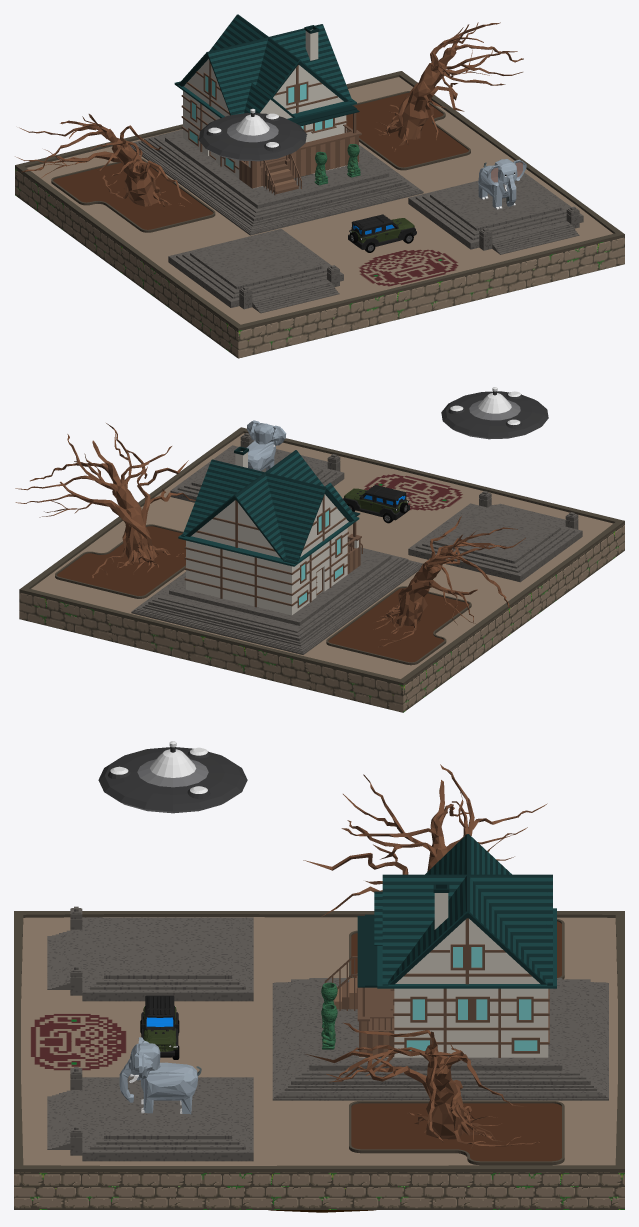
3 renders of one model, top to bottom at view 1: azimuth 30°, elevation 25°; view 2: azimuth 150°, elevation 25°; view 3: azimuth 270°, elevation 25°, orthographic. The views are drawn at different scales.
Parts seen in each view (by area): view 1: Cube.011, Cube.793, OBJRANDOM_UFO, VEHICLES_JEEP, ANIMAL_ELEFANTE; view 2: Cube.011, Cube.793, OBJRANDOM_UFO, VEHICLES_JEEP, ANIMAL_ELEFANTE; view 3: Cube.011, Cube.793, OBJRANDOM_UFO, ANIMAL_ELEFANTE, VEHICLES_JEEP.
Part boxes in pixels (box(x1,y1,x2,y2)): Cube.011: box(15, 22, 624, 358); Cube.793: box(174, 14, 361, 195); OBJRANDOM_UFO: box(199, 108, 306, 161); VEHICLES_JEEP: box(348, 214, 416, 252); ANIMAL_ELEFANTE: box(478, 159, 526, 209); Cube.011: box(15, 423, 624, 712); Cube.793: box(178, 446, 362, 615); OBJRANDOM_UFO: box(441, 387, 548, 439); VEHICLES_JEEP: box(343, 485, 409, 523); ANIMAL_ELEFANTE: box(246, 420, 286, 471); Cube.011: box(14, 764, 624, 1209); Cube.793: box(324, 834, 556, 1057); OBJRANDOM_UFO: box(98, 741, 247, 813); ANIMAL_ELEFANTE: box(119, 1037, 201, 1114); VEHICLES_JEEP: box(140, 995, 179, 1059).
Bounding box in the file's own units: 5099 × 2014 × 4000.
31 materials, 6 textured.
